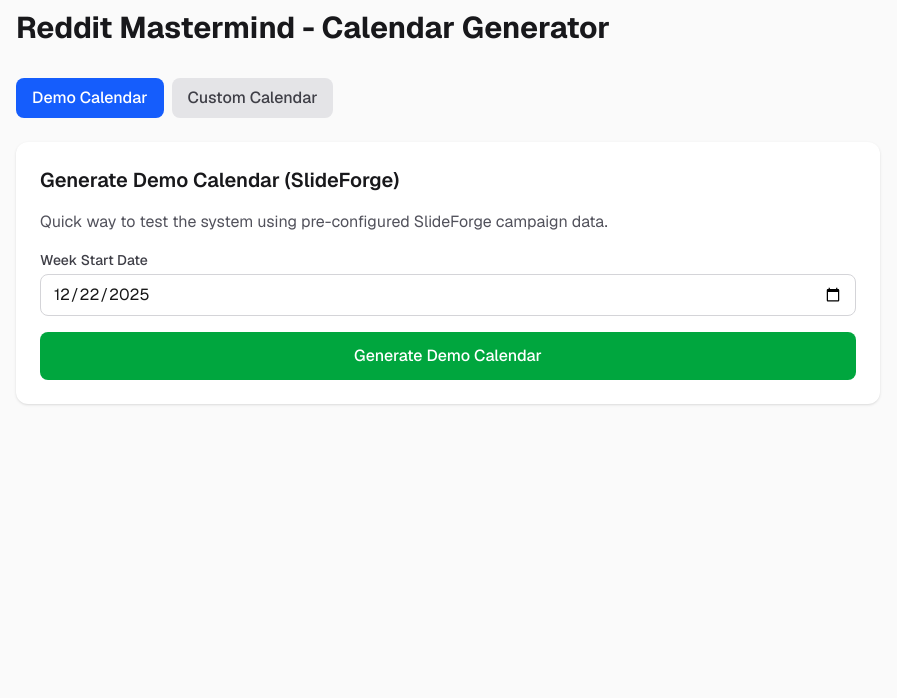
Scenario: Page › switches between demo and custom tabs
Click the button "Custom Calendar" at (252, 98), box x1=172 y1=78 x2=334 y2=118
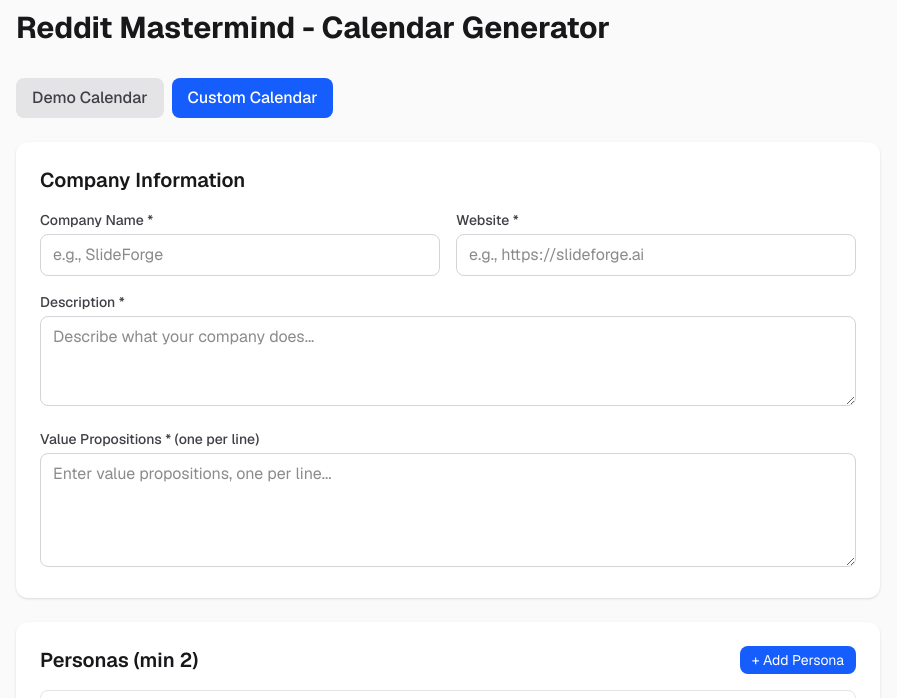
Now the heading "Company Information" is shown, box x1=40 y1=167 x2=245 y2=193
Click the button "Demo Calendar" at (90, 98), box x1=16 y1=78 x2=164 y2=118
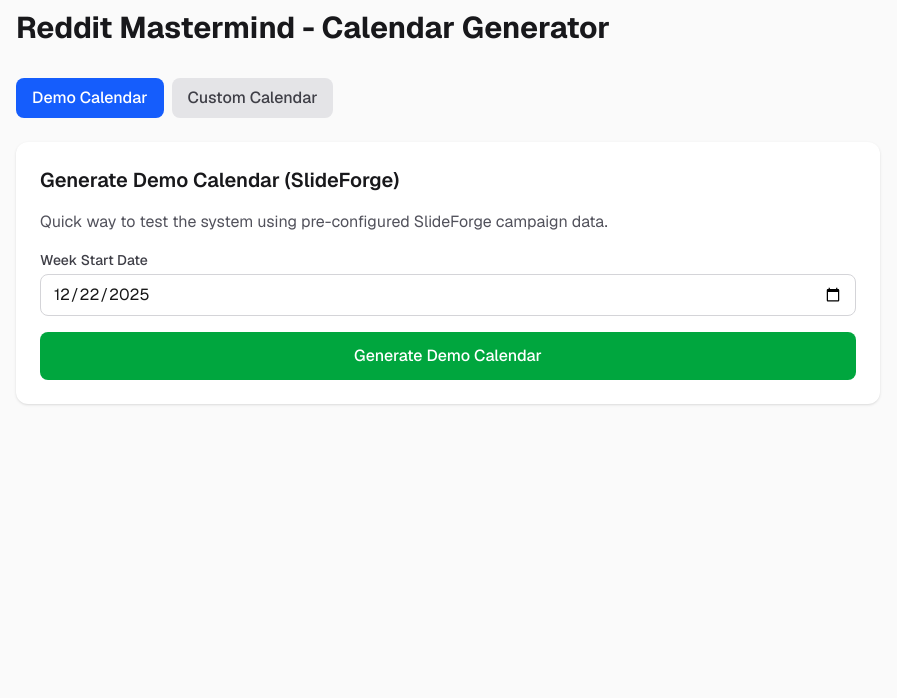
Now the heading "Generate Demo Calendar (SlideForge)" is shown, box x1=40 y1=167 x2=399 y2=193
